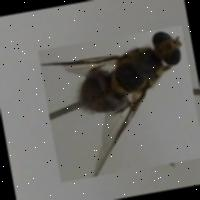Oriental-fruit-fly: (37, 25, 200, 182)
